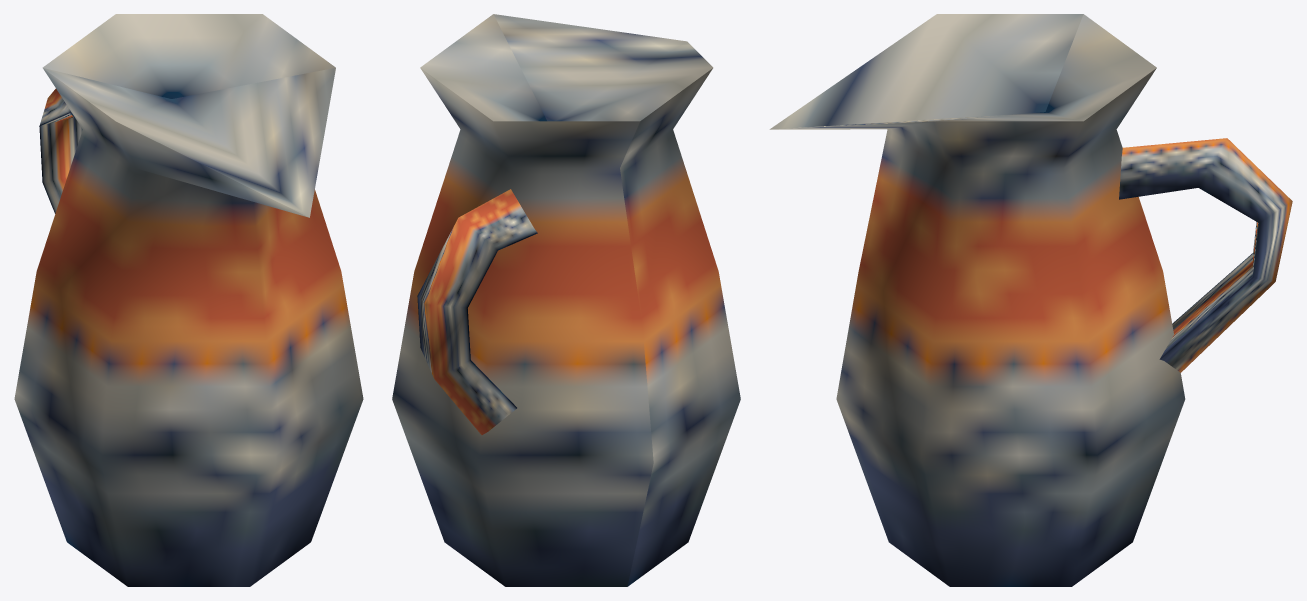
3 renders of one model, left to right at view 1: azimuth 30°, elevation 25°; view 2: azimuth 150°, elevation 25°; view 3: azimuth 270°, elevation 25°, orthographic.
Parts seen in each view (by area): view 1: a32; view 2: a32; view 3: a32.
Part boxes in pixels (x1,y1,x2,y2): a32: [14, 14, 363, 586]; a32: [392, 14, 740, 586]; a32: [769, 14, 1292, 586].
Bounding box in the file's own units: 63.57 × 110 × 110.
